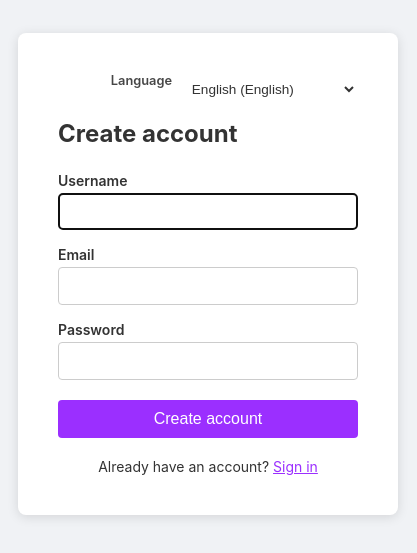
Test: SignupPage › shows error message on registration failure
The width and height of the screenshot is (417, 553).
Type "existing" into the 1st field.
click(208, 212); type("existing")  # box [58,193,358,230]
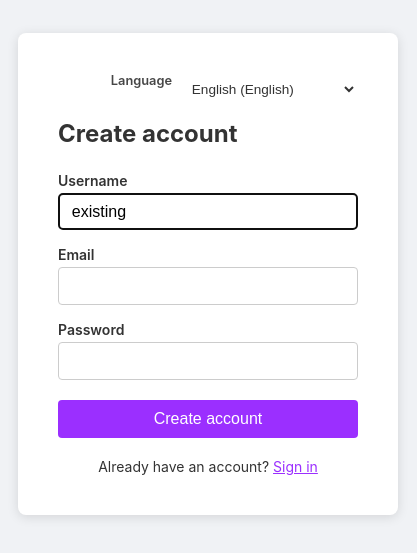
Type "taken@example.com" into the 2nd field.
click(208, 286); type("taken@example.com")  # box [58,267,358,305]
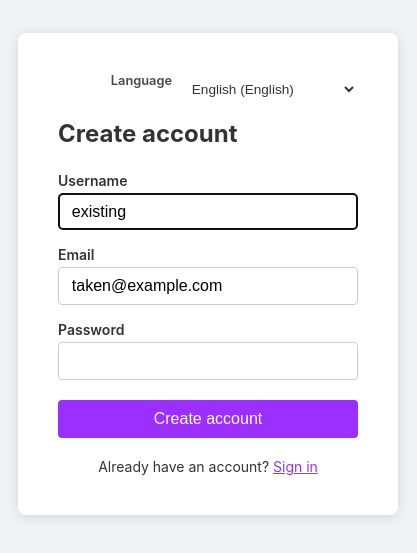
Type "password" into the password field.
click(208, 361); type("password")  # box [58,342,358,380]
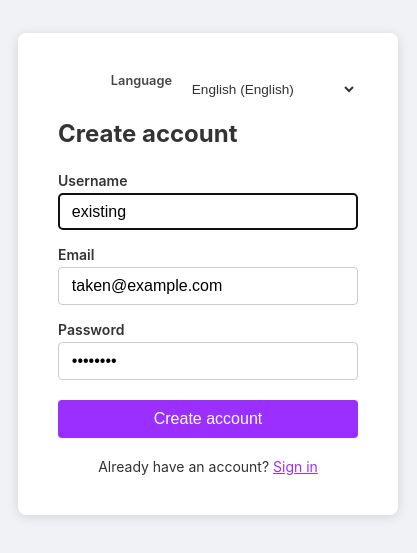
Click the button "Create account".
click(208, 419)  # box [58,400,358,438]
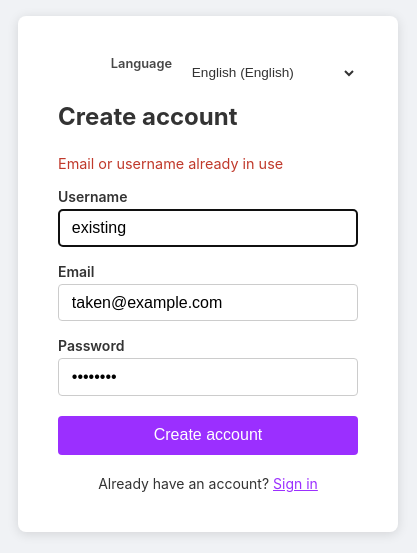
Now the text "Email or username already in use" is shown, box [58,155,283,172]
